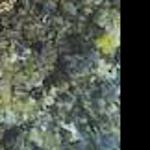alive: (1, 3, 117, 148)
